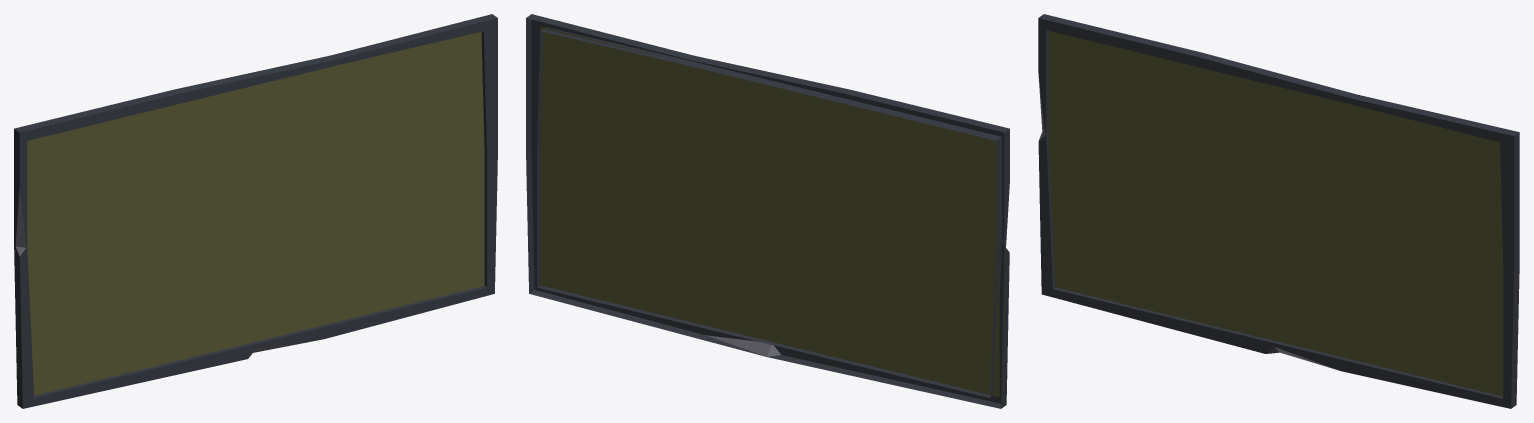
File: SM_Chalk_Board_B.fbx
3 renders of one model, left to right at view 1: azimuth 30°, elevation 25°; view 2: azimuth 150°, elevation 25°; view 3: azimuth 330°, elevation 25°, orthographic.
Visible parts, largest first — view 1: SM_Chalk_Board_B; view 2: SM_Chalk_Board_B; view 3: SM_Chalk_Board_B.
Part boxes in pixels (x1,y1,x2,y2): SM_Chalk_Board_B: [14, 14, 497, 408]; SM_Chalk_Board_B: [526, 14, 1009, 408]; SM_Chalk_Board_B: [1038, 14, 1519, 408].
Size of the model in its own units: 201 by 114 by 4.03.
